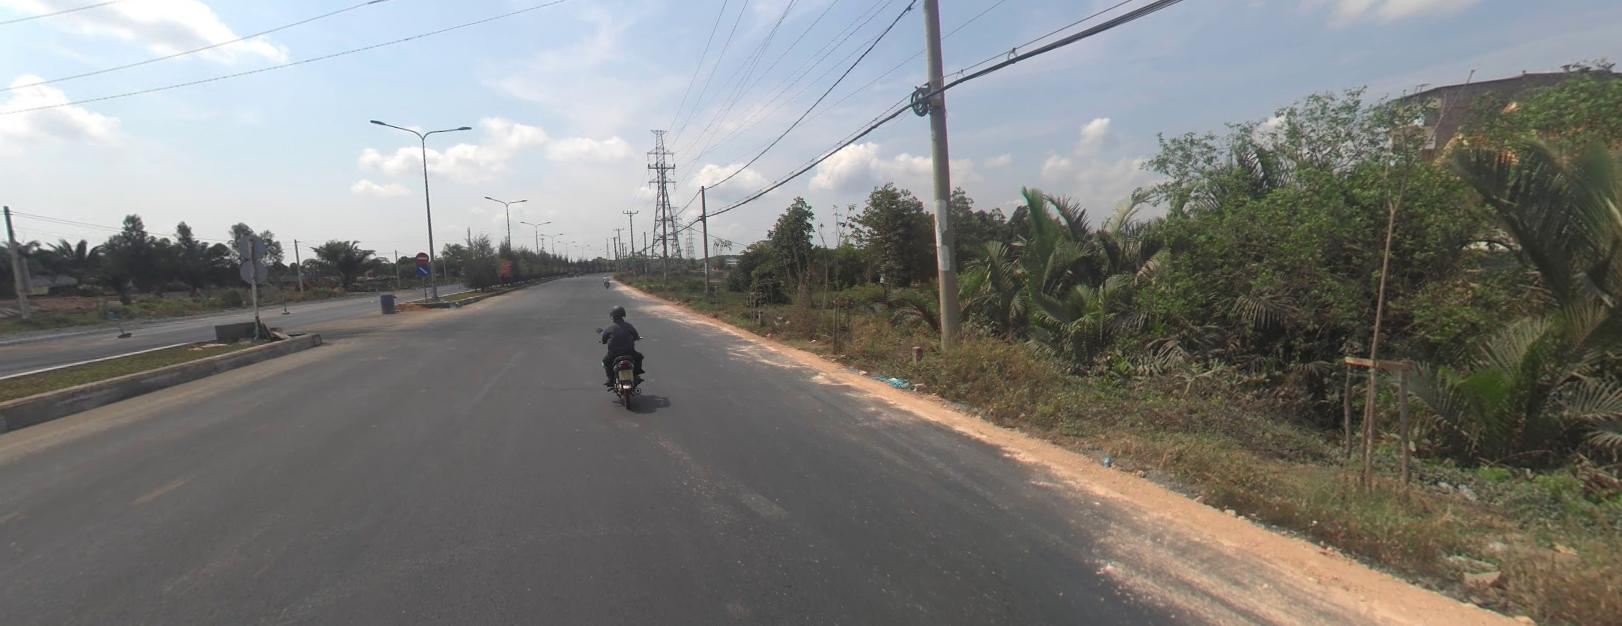Cam nguoc chieu: (415, 251, 429, 263), (415, 251, 428, 261)
Hieu lenh: (415, 262, 430, 274), (416, 263, 428, 274)
